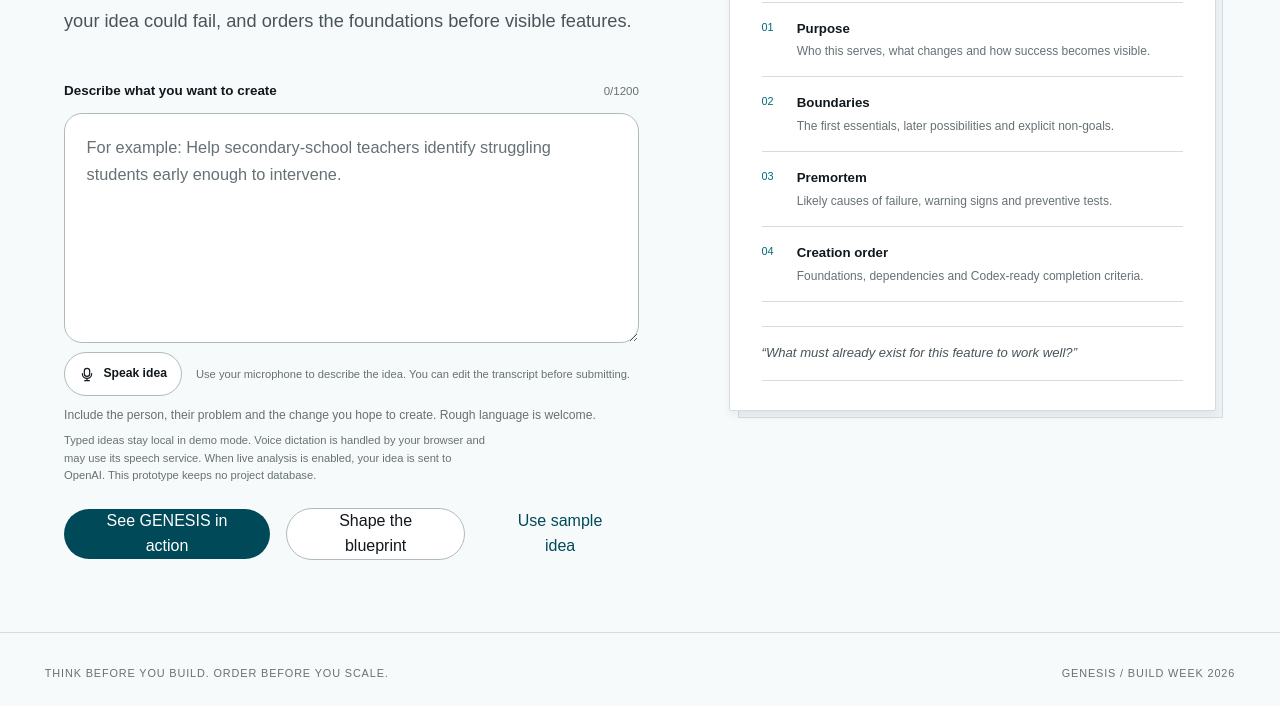
Test: GenesisFlow › generates and displays a complete blueprint from the sample idea
This screenshot has width=1280, height=706.
(page scrolled)
Click the button "Use sample idea" at x=560, y=534, box top-left (481, 509), bottom-right (639, 559)
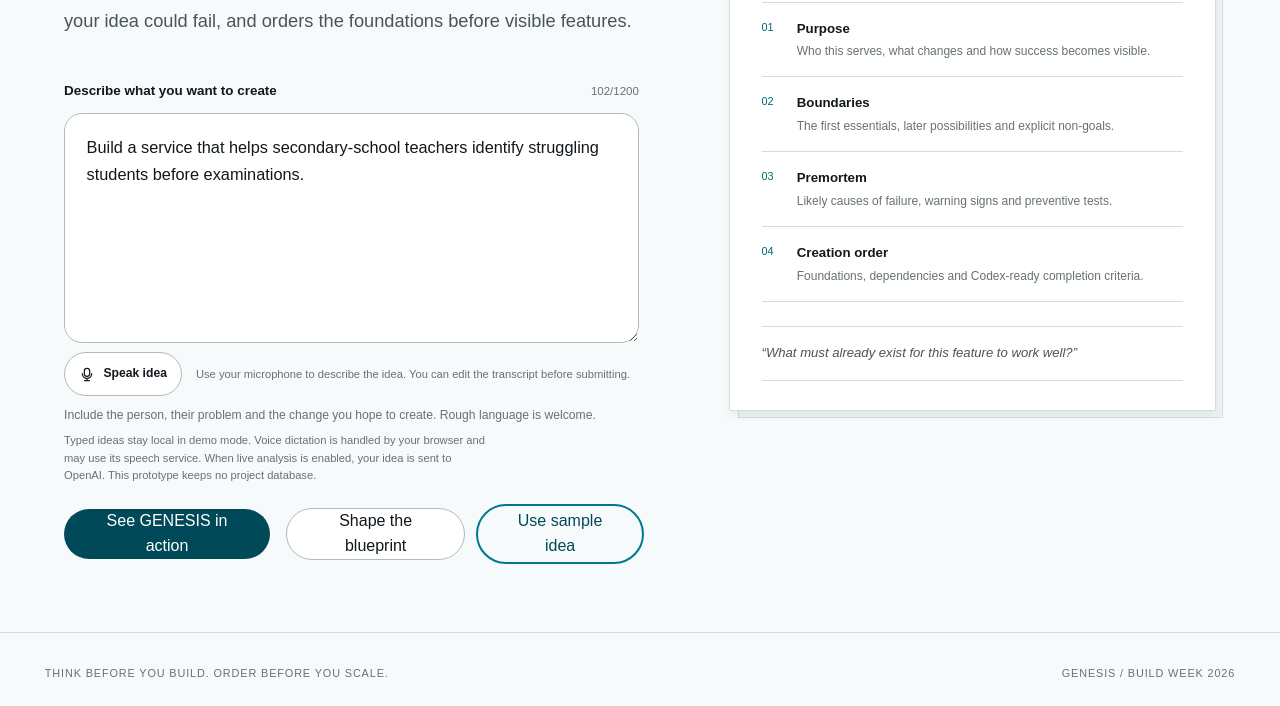
Click the button "Shape the blueprint" at x=376, y=534, box top-left (286, 508), bottom-right (465, 560)
(page scrolled)
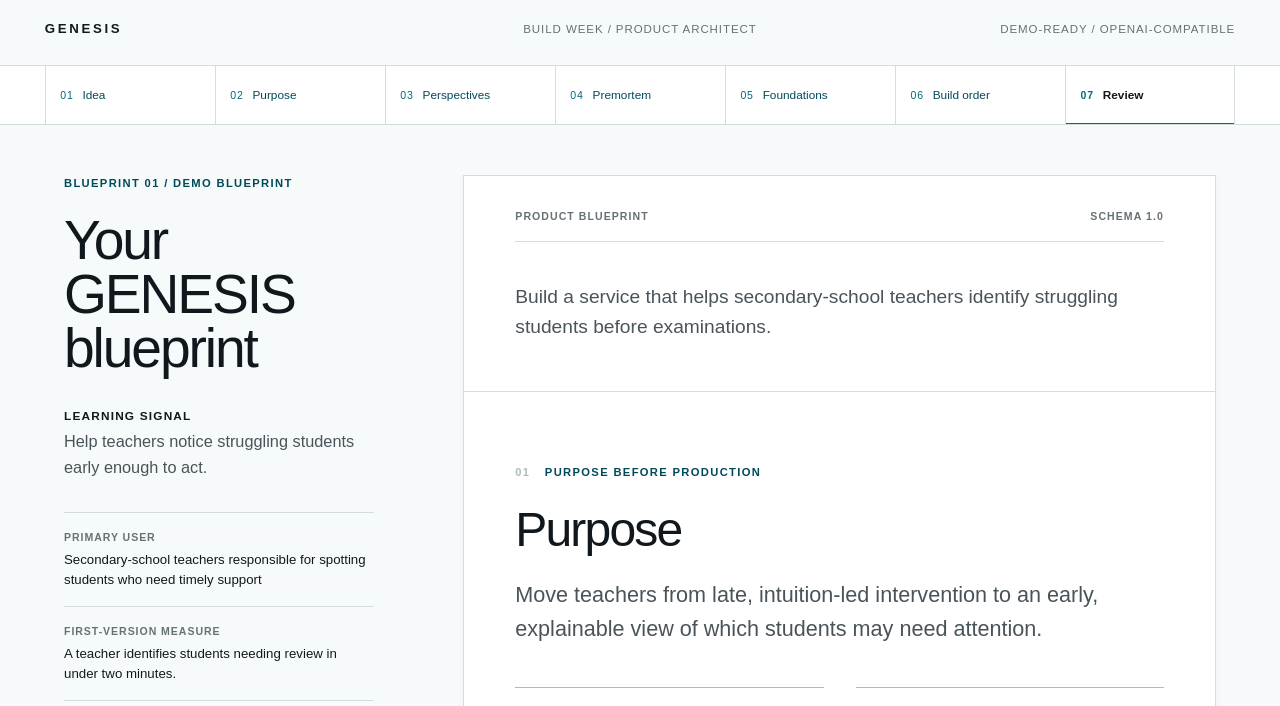
Now the heading "Your GENESIS blueprint" is shown, box top-left (64, 209), bottom-right (295, 379)
Now the heading "Purpose" is shown, box top-left (515, 502), bottom-right (681, 556)
Now the text "Blueprint 01 / Demo blueprint" is shown, box top-left (64, 177), bottom-right (293, 189)
